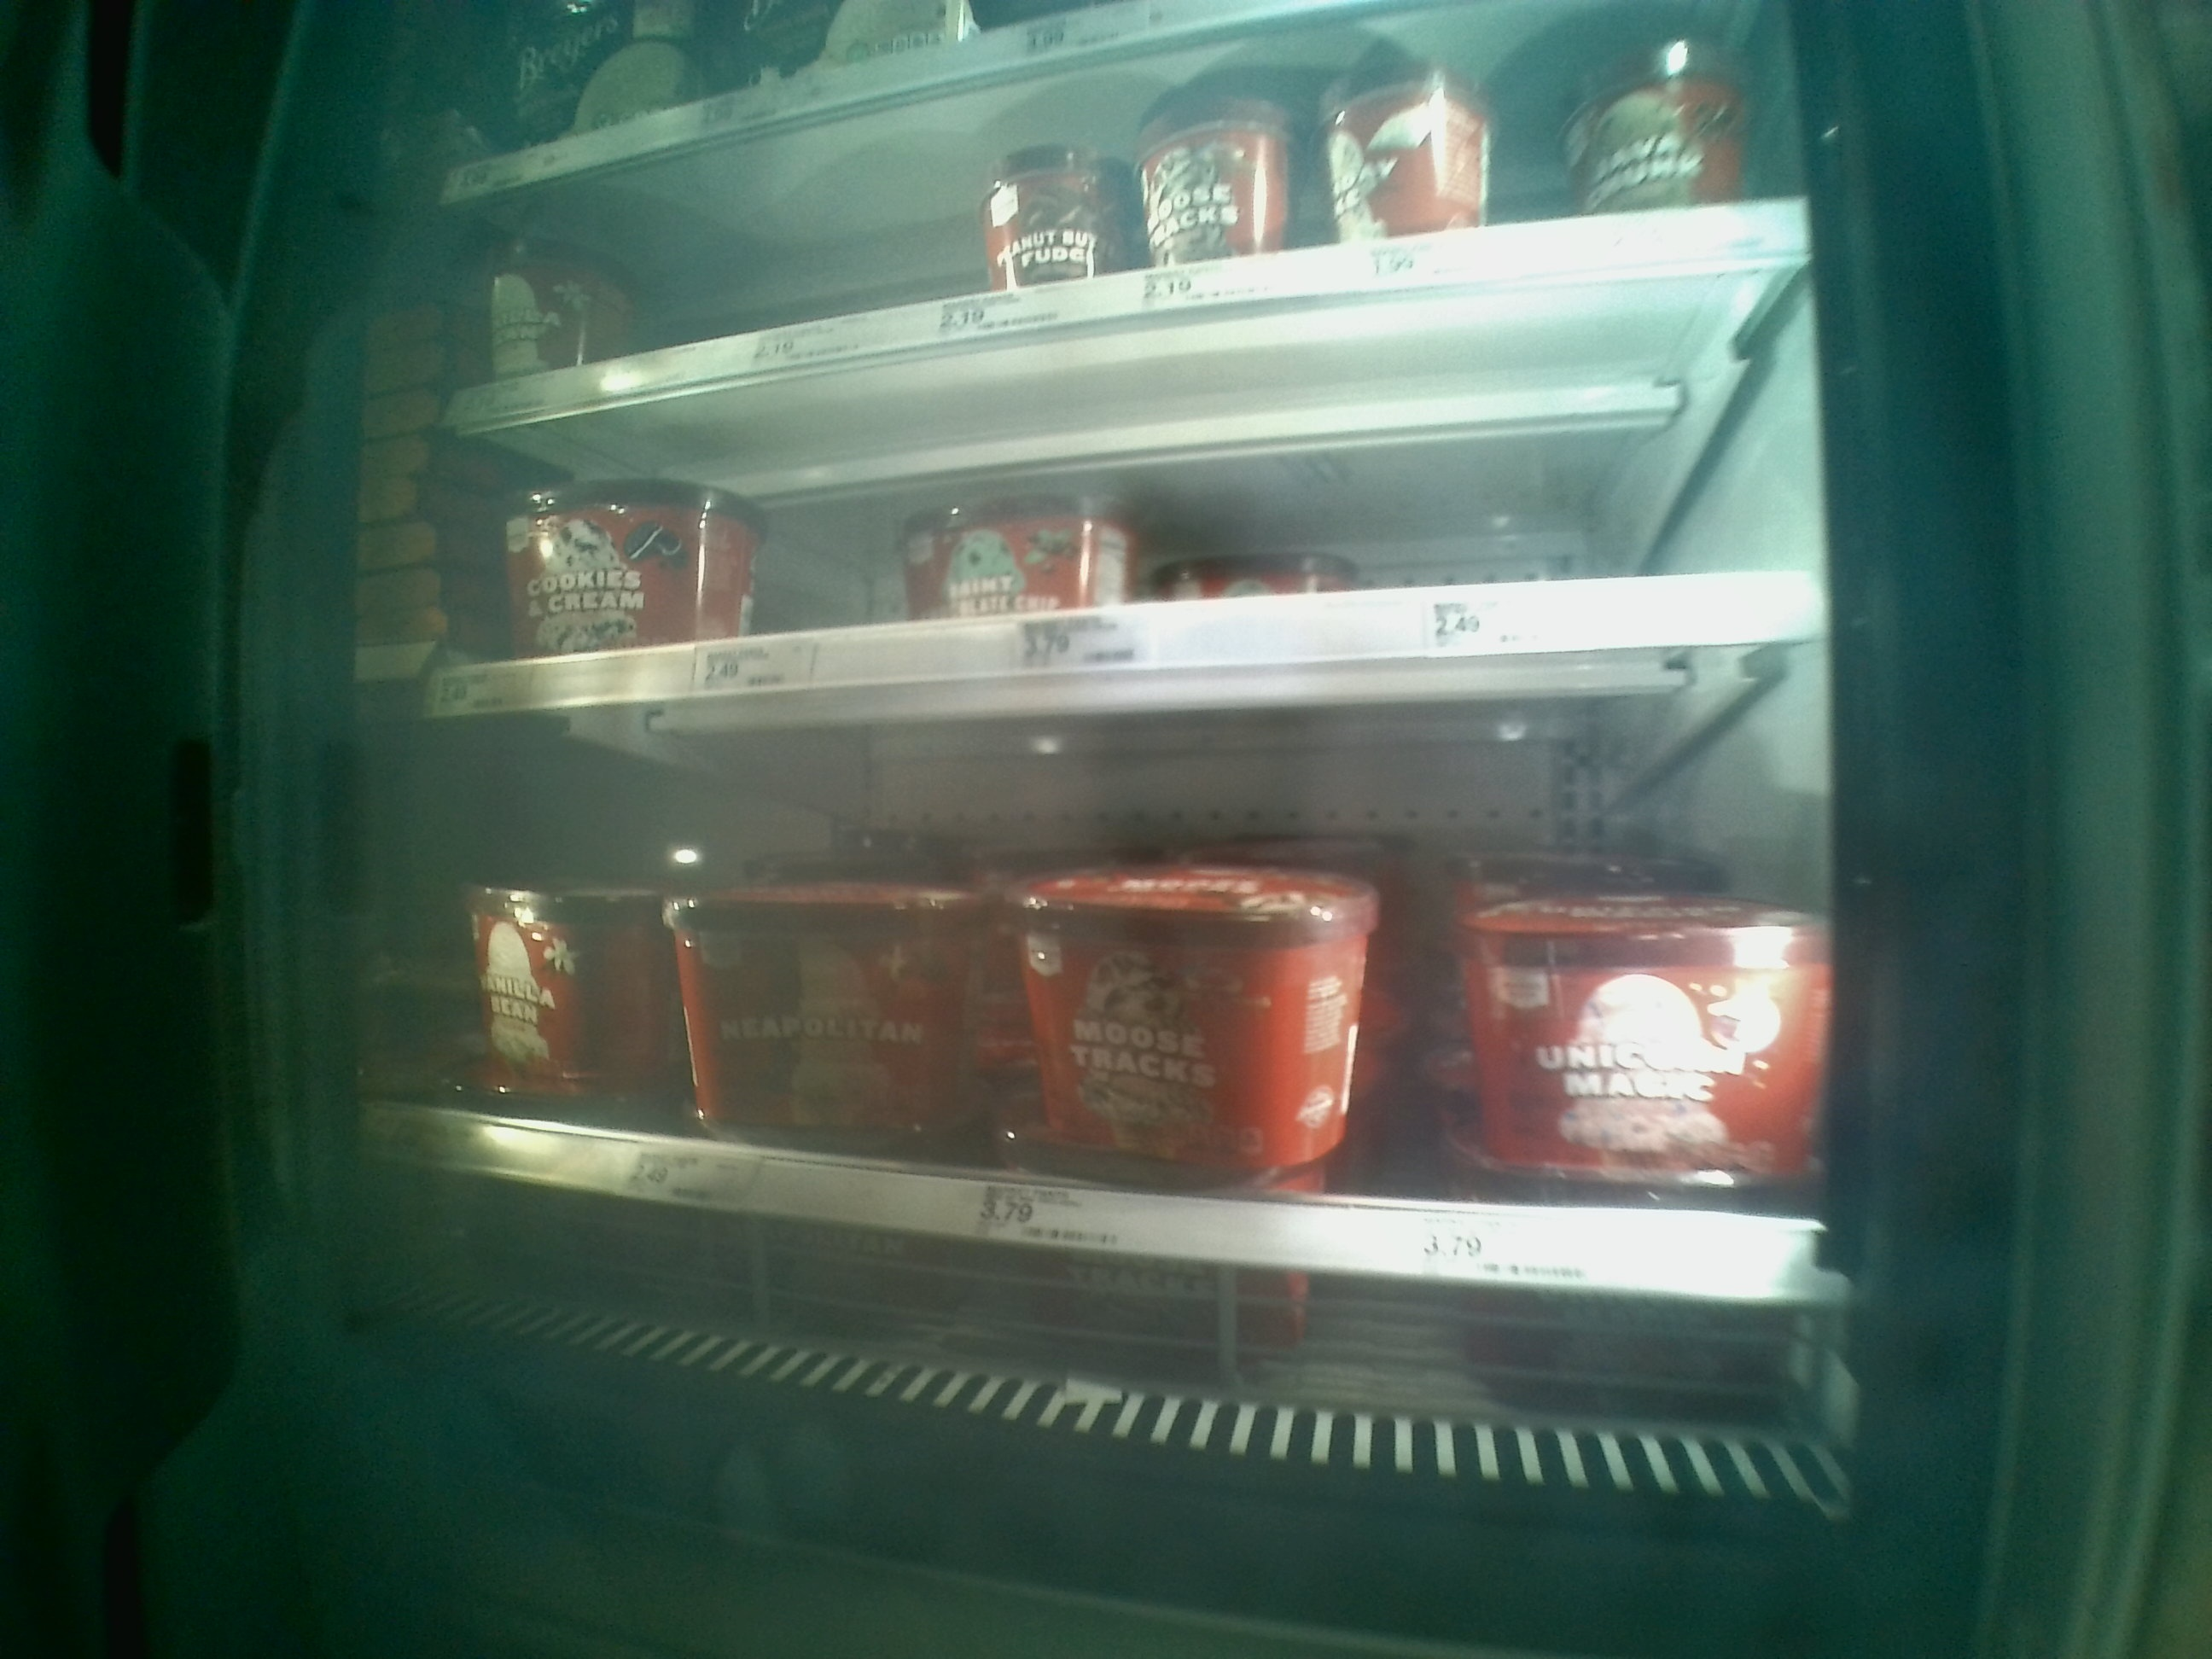shelf: (415, 685, 1829, 1303), (428, 333, 1820, 732)
